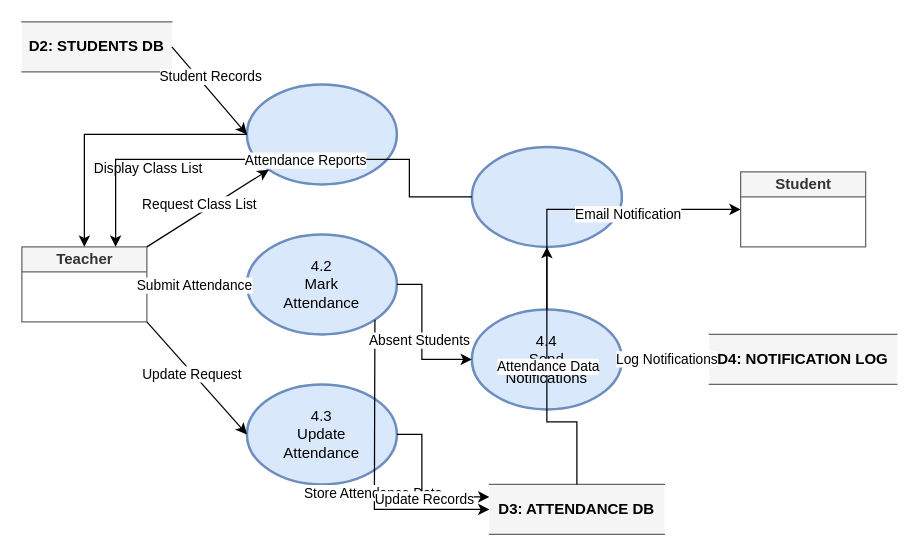
The diagram is 919 pixels wide and 556 high, and some of its shapes have lost their labels. Each missing label, with the centre of its shape:
4.1 View Class List: (321,133)
4.5 Generate Reports: (546,196)
